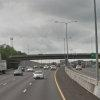Bridge: (9, 48, 95, 66)
